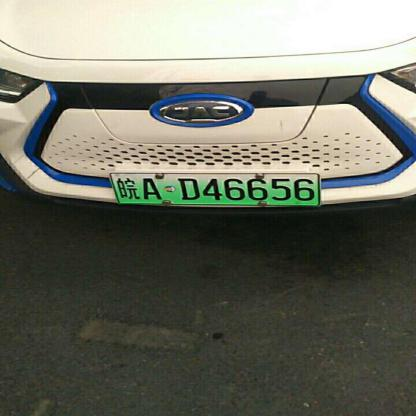lp: (109, 172, 321, 206)
